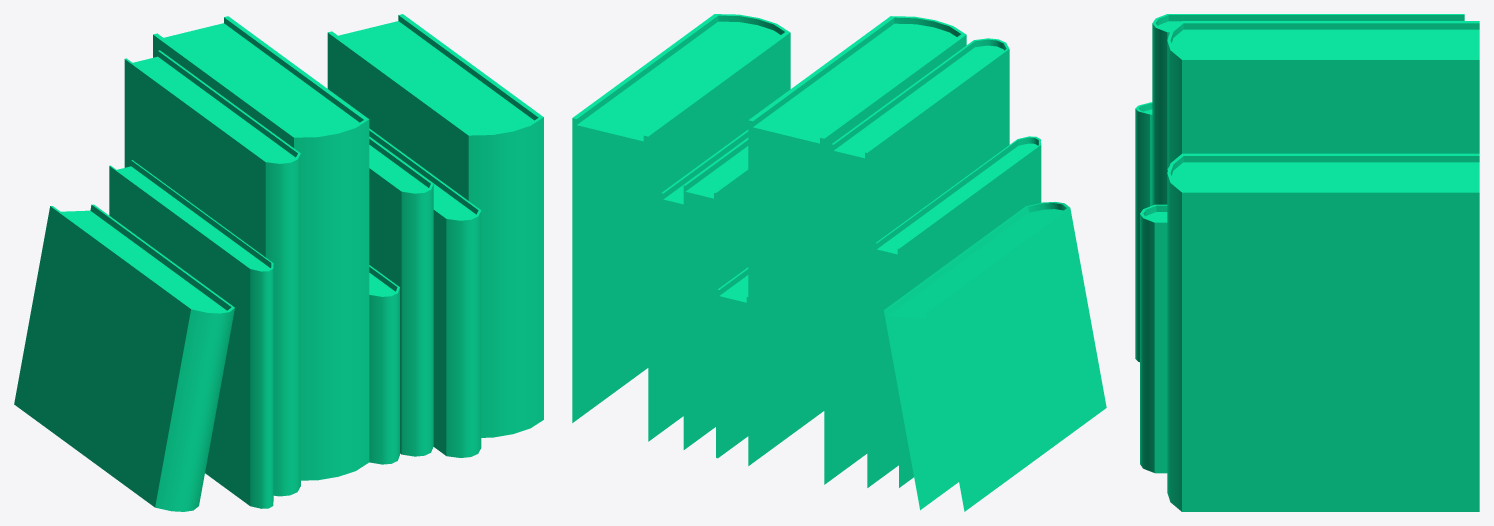
Rendered from HalloweenRoomA_BooksB.fbx.
3 renders of one model, left to right at view 1: azimuth 30°, elevation 25°; view 2: azimuth 150°, elevation 25°; view 3: azimuth 270°, elevation 25°, orthographic. The views are drawn at different scales.
Parts seen in each view (by area): view 1: HalloweenRoomA_BooksB; view 2: HalloweenRoomA_BooksB; view 3: HalloweenRoomA_BooksB.
Part boxes in pixels (bbox=[...]): HalloweenRoomA_BooksB: bbox=[14, 14, 543, 511]; HalloweenRoomA_BooksB: bbox=[572, 14, 1106, 511]; HalloweenRoomA_BooksB: bbox=[1135, 14, 1479, 511].
Size of the model in its own units: 41.48 by 35.19 by 30.13.
